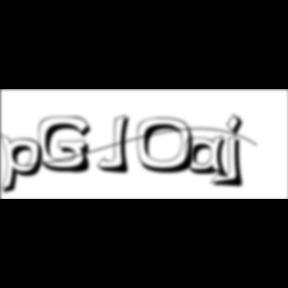G: (38, 116, 97, 176)
J: (98, 114, 136, 176)
O: (136, 117, 202, 176)
a: (186, 135, 234, 182)
j: (224, 113, 250, 191)
p: (0, 132, 50, 198)
